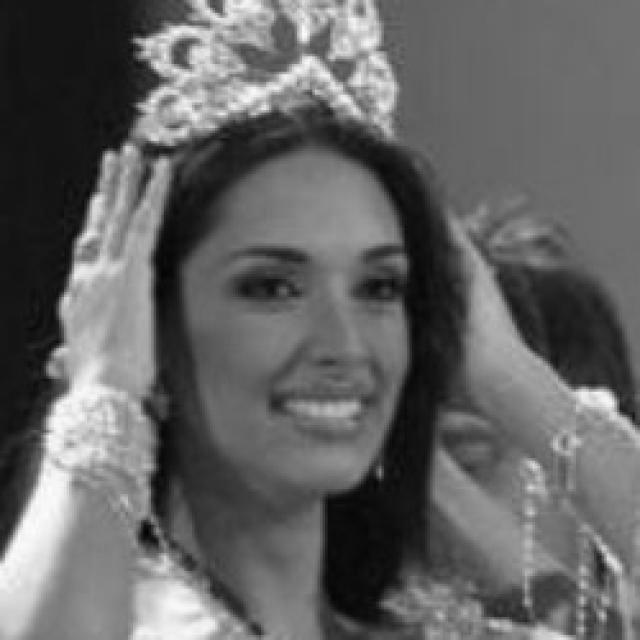real: (182, 144, 412, 492), (234, 242, 398, 320)
